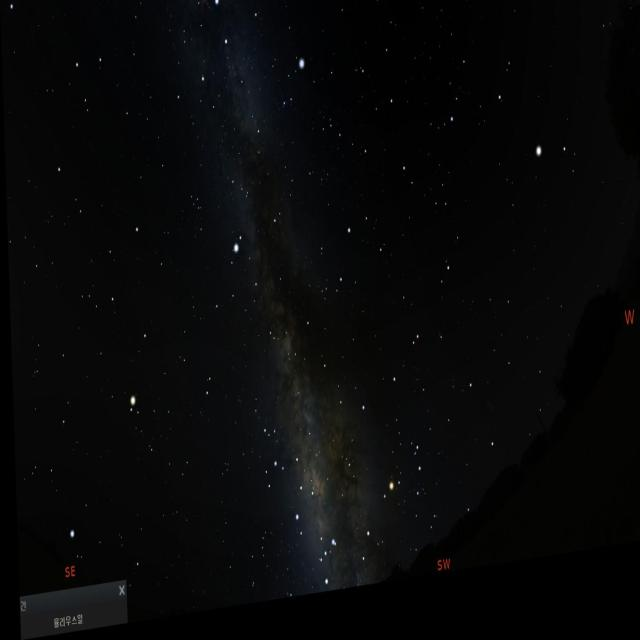aquila: (208, 188, 289, 364)
bootes: (449, 0, 569, 232)
cygnus: (193, 0, 271, 168)
lyra: (270, 68, 314, 136)
sagittarius: (243, 418, 304, 512)
scorpius: (307, 428, 433, 586)
